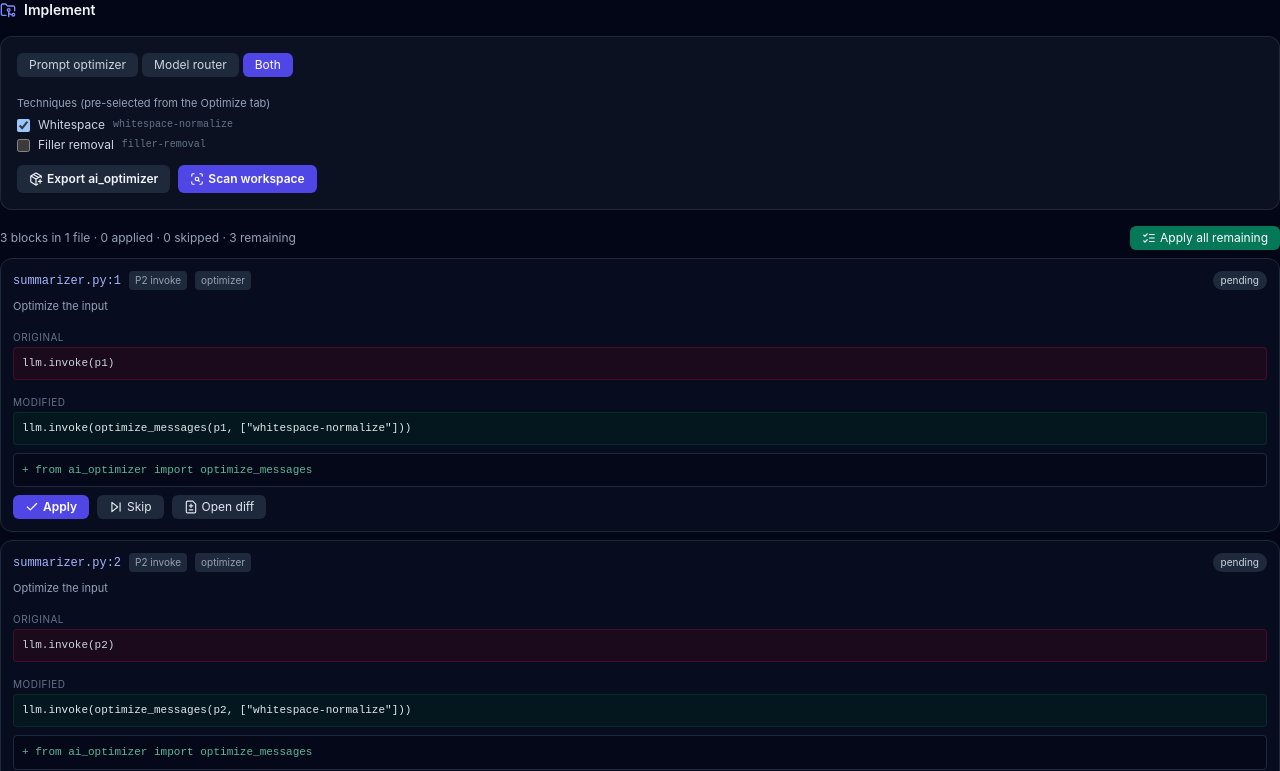
Test: ImplementView › Apply all remaining sends one block at a time and stops on a stale result
The width and height of the screenshot is (1280, 771).
Click the button "Apply all remaining" at point(1205, 238), box left=1130, top=226, right=1279, bottom=250
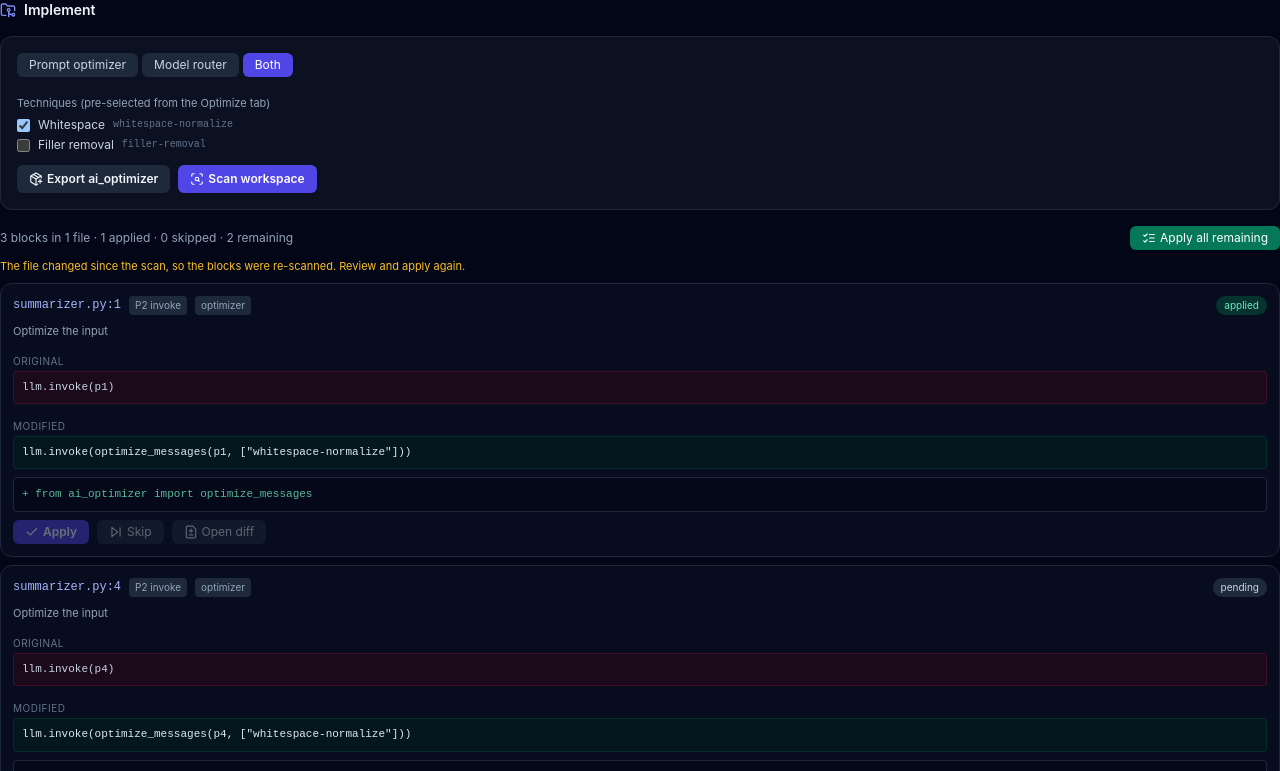
Check: the text "re-scanned" is shown, box left=0, top=259, right=465, bottom=273
